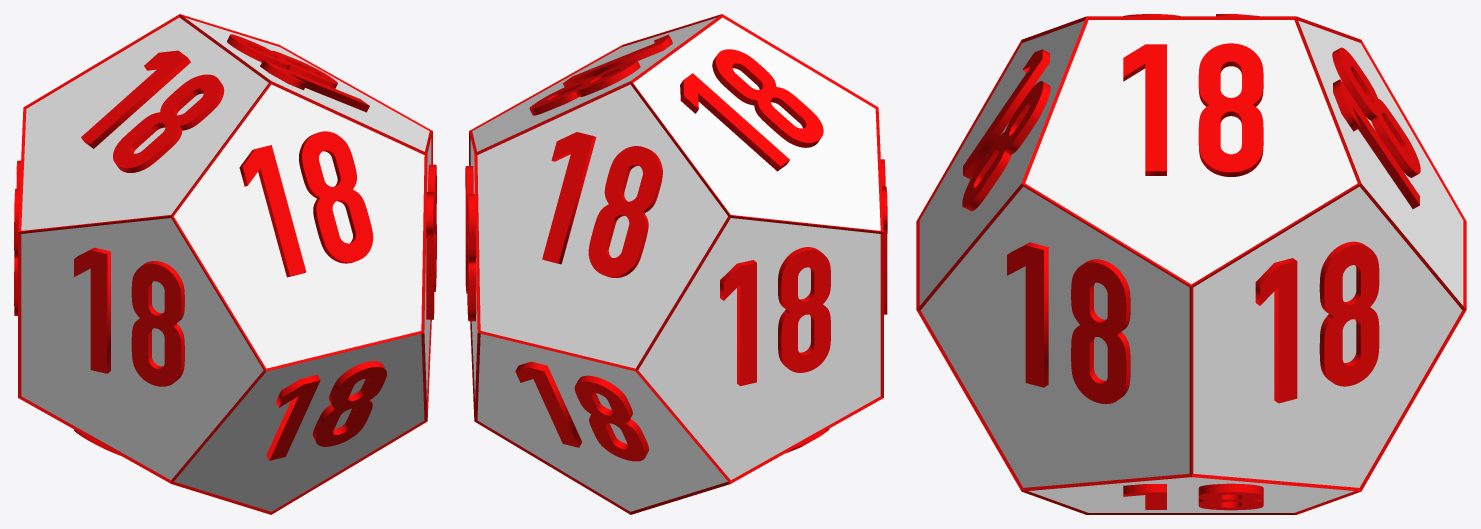
Rendered from dodecahedron_sign-18.glb.
3 views of the same model, side by side, from view 1: azimuth 30°, elevation 25°; view 2: azimuth 150°, elevation 25°; view 3: azimuth 270°, elevation 25° (orthographic). The views are drawn at different scales.
Visible parts, largest first — view 1: Dodecahedron_Solid, Dodecahedron_Wire, Text20_5, Text20_11, Text20_7, Text20_10, Text20_2, Text20_6, Text20_8; view 2: Dodecahedron_Solid, Dodecahedron_Wire, Text20_0, Text20_8, Text20_7, Text20_3, Text20_2, Text20_1, Text20_11; view 3: Dodecahedron_Solid, Dodecahedron_Wire, Text20_1, Text20_6, Text20_2, Text20_0, Text20_5, Text20_4.
Part boxes in pixels (left/top/right/bottom): Dodecahedron_Solid: left=21, top=17, right=431, bottom=511; Dodecahedron_Wire: left=18, top=14, right=432, bottom=514; Text20_5: left=239, top=131, right=373, bottom=277; Text20_11: left=74, top=247, right=184, bottom=386; Text20_7: left=81, top=50, right=224, bottom=172; Text20_10: left=266, top=361, right=386, bottom=460; Text20_2: left=227, top=34, right=369, bottom=112; Text20_6: left=426, top=164, right=436, bottom=319; Text20_8: left=14, top=160, right=20, bottom=315; Dodecahedron_Solid: left=470, top=17, right=880, bottom=511; Dodecahedron_Wire: left=469, top=14, right=883, bottom=514; Text20_0: left=542, top=132, right=662, bottom=277; Text20_8: left=720, top=247, right=830, bottom=385; Text20_7: left=680, top=49, right=823, bottom=171; Text20_3: left=515, top=361, right=648, bottom=461; Text20_2: left=529, top=34, right=672, bottom=115; Text20_1: left=465, top=166, right=476, bottom=321; Text20_11: left=881, top=159, right=887, bottom=314; Dodecahedron_Solid: left=919, top=20, right=1463, bottom=512; Dodecahedron_Wire: left=916, top=16, right=1466, bottom=514; Text20_1: left=1255, top=241, right=1379, bottom=403; Text20_6: left=1007, top=242, right=1130, bottom=404; Text20_2: left=1123, top=43, right=1263, bottom=176; Text20_0: left=1332, top=47, right=1420, bottom=208; Text20_5: left=962, top=49, right=1050, bottom=211; Text20_4: left=1123, top=483, right=1263, bottom=510.
Size of the model in its own units: 3.26 by 3.26 by 3.26.
